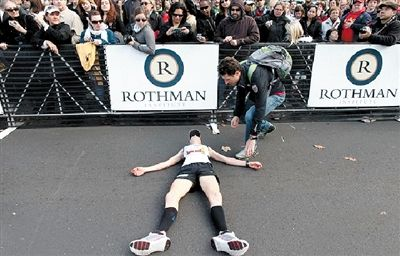10+: (1, 1, 399, 177)
down: (123, 128, 272, 256)
